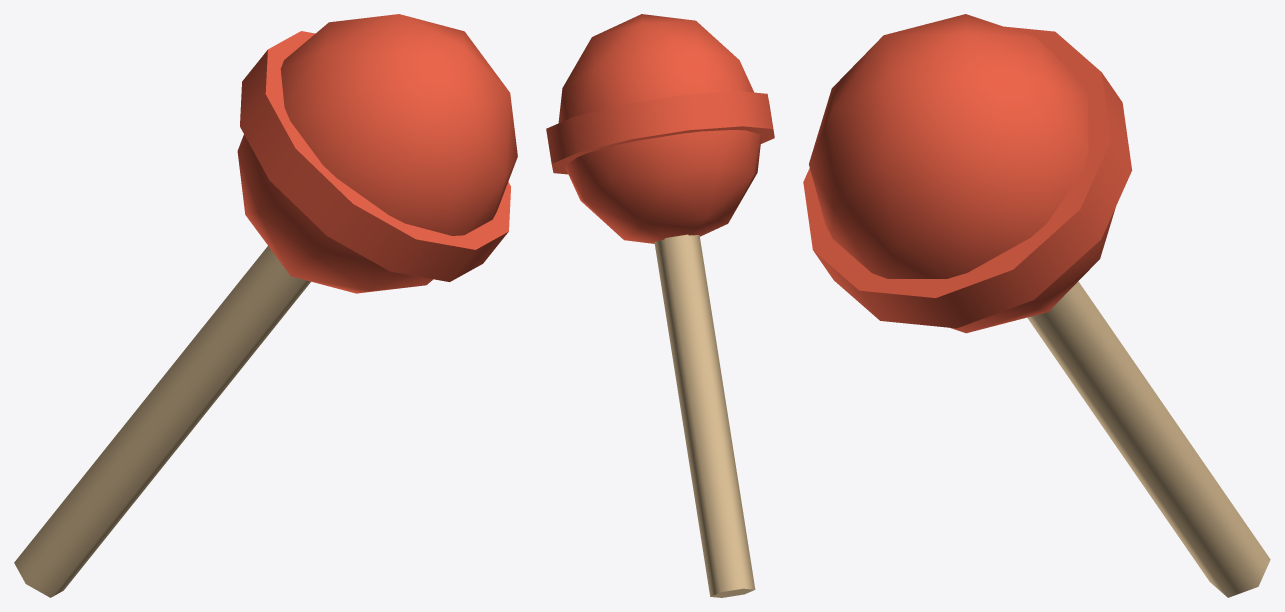
Rendered from Bad Food 8.fbx.
3 renders of one model, left to right at view 1: azimuth 30°, elevation 25°; view 2: azimuth 150°, elevation 25°; view 3: azimuth 270°, elevation 25°, orthographic. The views are drawn at different scales.
Parts seen in each view (by area): view 1: Bad Food_008; view 2: Bad Food_008; view 3: Bad Food_008.
Boxes of the visible parts, x1,y1,x2,y2 form: Bad Food_008: (14,14,517,597); Bad Food_008: (546,14,774,597); Bad Food_008: (803,14,1270,597).
Bounding box in the file's own units: 16.58 × 26.57 × 16.48.
